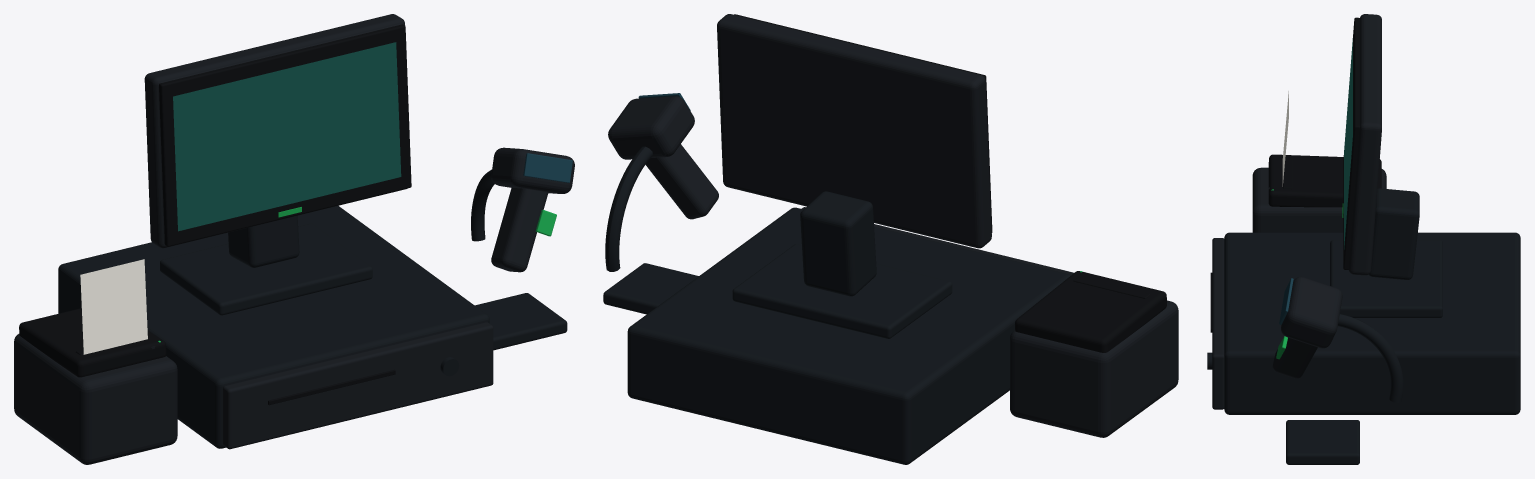
The model's file is yokapos-full-set.glb.
The picture shows the model from 3 angles, left to right: view 1: azimuth 30°, elevation 25°; view 2: azimuth 150°, elevation 25°; view 3: azimuth 270°, elevation 25°; orthographic projection. The views are drawn at different scales.
Visible parts, largest first — view 1: Drawer_Body, Terminal_Screen, Drawer_Front, Printer_Body, Terminal_Bezel, Terminal_Base, Terminal_Back, Printer_Paper, Printer_Top, Scanner_Stand_Base, Scanner_Handle, Terminal_Stand (+5 smaller); view 2: Drawer_Body, Terminal_Back, Printer_Body, Terminal_Base, Printer_Top, Terminal_Stand, Scanner_Head, Scanner_Handle, Scanner_Stand_Base, Scanner_Stand, Drawer_Front, Terminal_Bezel; view 3: Drawer_Body, Terminal_Base, Terminal_Back, Terminal_Stand, Printer_Top, Scanner_Stand_Base, Scanner_Head, Printer_Body, Drawer_Front, Terminal_Bezel, Scanner_Stand, Scanner_Handle (+1 smaller).
Part boxes in pixels (x1=…): Drawer_Body: x1=58, y1=205, x2=489, y2=448; Terminal_Screen: x1=173, y1=42, x2=401, y2=231; Drawer_Front: x1=222, y1=322, x2=493, y2=449; Printer_Body: x1=14, y1=334, x2=177, y2=464; Terminal_Bezel: x1=159, y1=24, x2=411, y2=246; Terminal_Base: x1=160, y1=223, x2=372, y2=315; Terminal_Back: x1=144, y1=14, x2=407, y2=248; Printer_Paper: x1=80, y1=259, x2=147, y2=354; Printer_Top: x1=19, y1=308, x2=166, y2=377; Scanner_Stand_Base: x1=475, y1=293, x2=567, y2=350; Scanner_Handle: x1=491, y1=187, x2=548, y2=272; Terminal_Stand: x1=228, y1=215, x2=299, y2=267; Drawer_Body: x1=627, y1=207, x2=1070, y2=464; Terminal_Back: x1=717, y1=14, x2=991, y2=248; Printer_Body: x1=1010, y1=300, x2=1178, y2=437; Terminal_Base: x1=732, y1=244, x2=952, y2=338; Printer_Top: x1=1015, y1=271, x2=1166, y2=352; Terminal_Stand: x1=800, y1=191, x2=876, y2=296; Scanner_Head: x1=608, y1=96, x2=694, y2=159; Scanner_Handle: x1=645, y1=144, x2=718, y2=219; Scanner_Stand_Base: x1=603, y1=263, x2=698, y2=314; Scanner_Stand: x1=605, y1=146, x2=653, y2=271; Drawer_Front: x1=801, y1=207, x2=1074, y2=275; Terminal_Bezel: x1=734, y1=14, x2=992, y2=232; Drawer_Body: x1=1224, y1=232, x2=1520, y2=414; Terminal_Base: x1=1330, y1=240, x2=1442, y2=317; Terminal_Back: x1=1349, y1=14, x2=1381, y2=275; Terminal_Stand: x1=1368, y1=188, x2=1419, y2=279; Printer_Top: x1=1268, y1=154, x2=1381, y2=207; Scanner_Stand_Base: x1=1286, y1=420, x2=1359, y2=464; Scanner_Head: x1=1281, y1=276, x2=1342, y2=348; Printer_Body: x1=1252, y1=167, x2=1386, y2=232; Drawer_Front: x1=1212, y1=238, x2=1224, y2=409; Terminal_Bezel: x1=1343, y1=17, x2=1359, y2=269; Scanner_Stand: x1=1338, y1=314, x2=1403, y2=402; Scanner_Handle: x1=1272, y1=337, x2=1317, y2=378.
Size of the model in its own units: 0.7678 by 0.4493 by 0.444.
